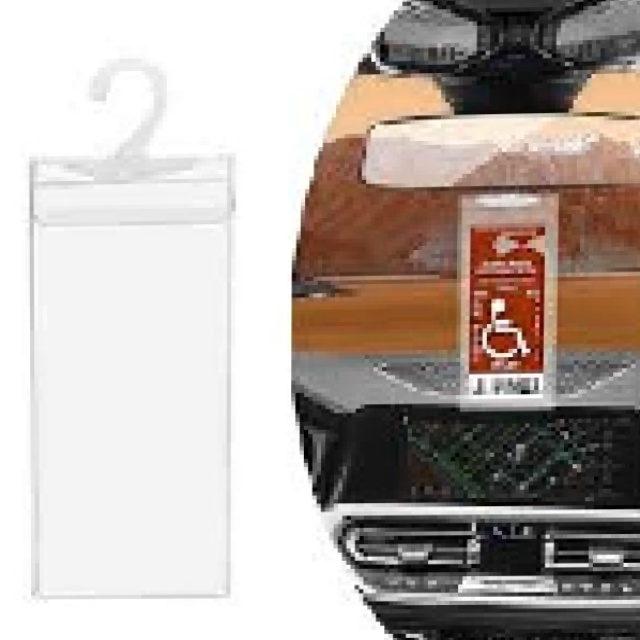ISA: (479, 294, 530, 358)
